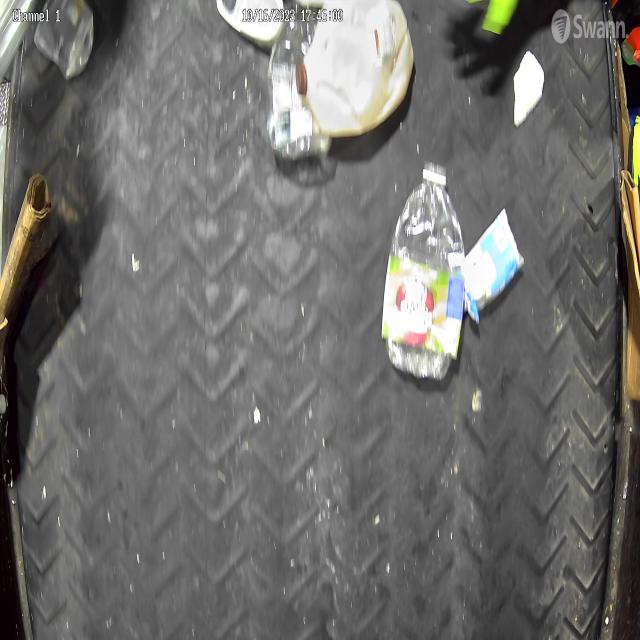milk_jug: (295, 0, 415, 137)
plastic_bottle: (381, 159, 465, 381), (268, 5, 330, 160), (33, 0, 93, 78)
